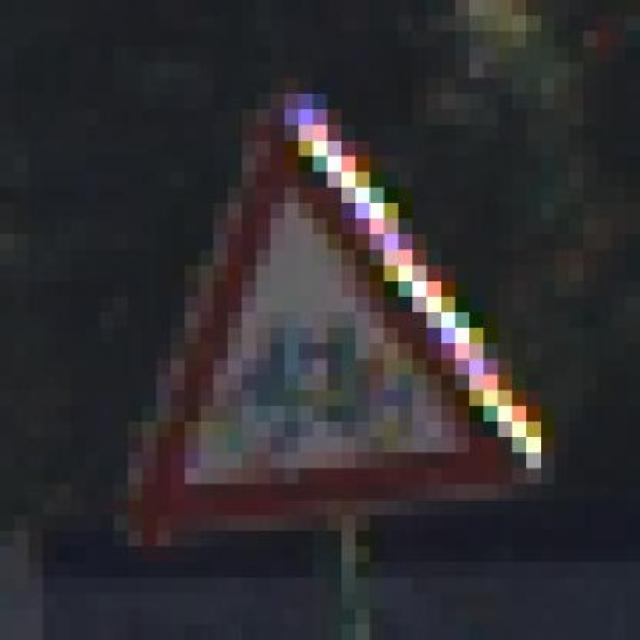CYCLE ROUTE AHEAD WARNING: (113, 62, 555, 547)
